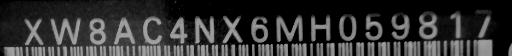letter: (45, 13, 83, 45), (466, 5, 498, 39), (272, 14, 306, 43), (136, 11, 164, 45), (190, 14, 218, 44), (412, 7, 438, 39), (82, 13, 106, 47), (18, 14, 44, 45), (359, 10, 385, 40), (307, 12, 333, 42), (442, 8, 466, 40), (168, 12, 192, 44), (333, 12, 357, 42), (219, 14, 243, 44), (386, 12, 412, 39), (248, 14, 272, 43), (115, 16, 137, 47)
